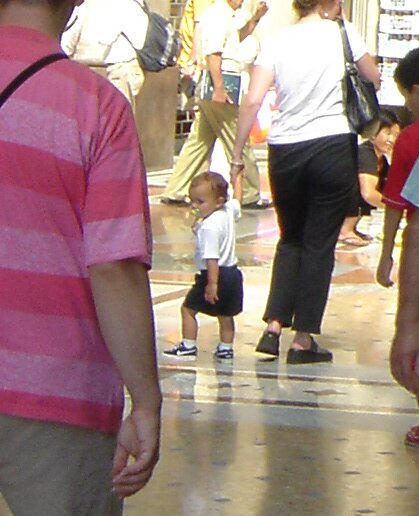person: (1, 1, 164, 513), (237, 1, 354, 365), (164, 166, 246, 364), (378, 46, 419, 287)
